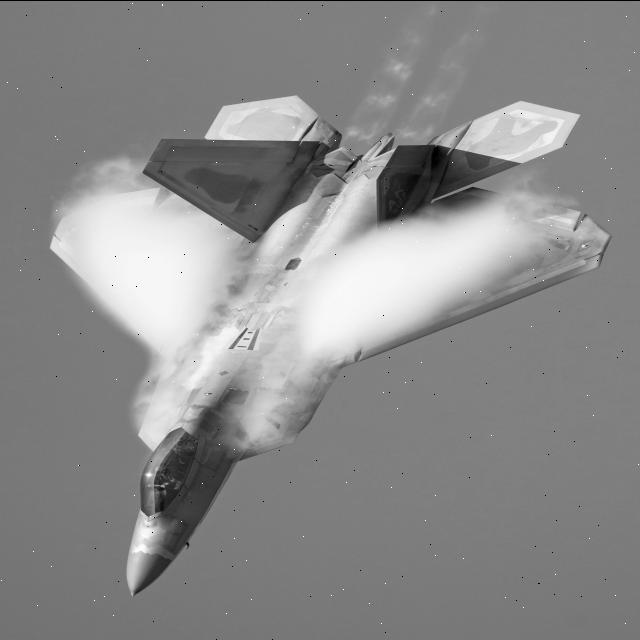F22: (69, 43, 622, 600)
